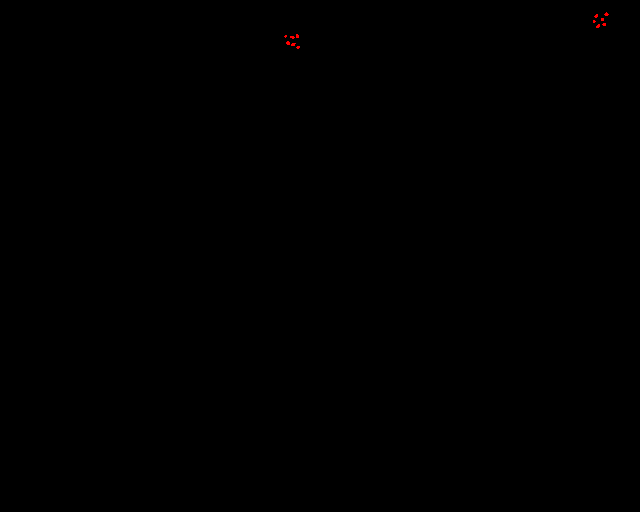Target: (604, 12, 609, 16), (594, 14, 598, 18), (596, 24, 600, 28), (286, 41, 290, 45), (290, 36, 295, 39), (291, 43, 296, 46), (602, 23, 606, 26), (296, 34, 299, 38), (296, 46, 300, 49), (601, 18, 604, 21), (593, 20, 596, 23), (284, 35, 287, 38)
